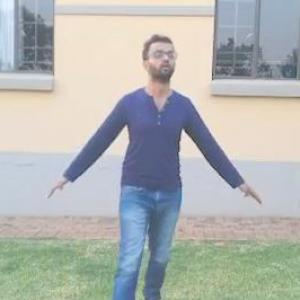land: (37, 30, 238, 294)
